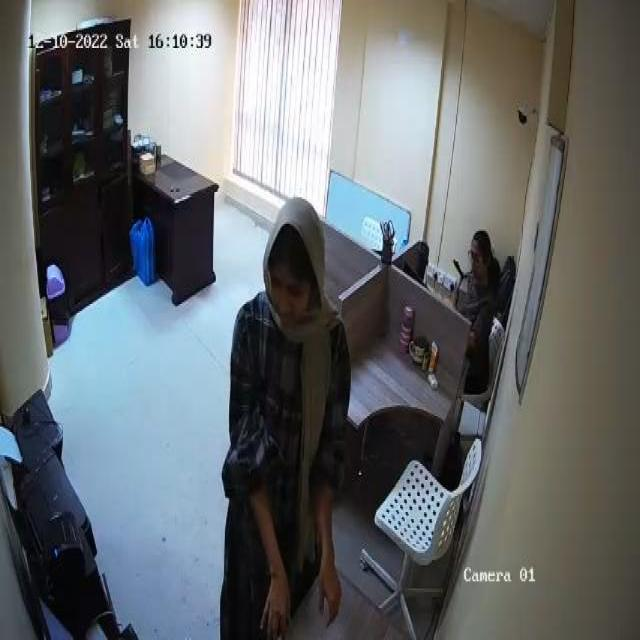bare_hand: (259, 560, 297, 640), (314, 564, 344, 629)
